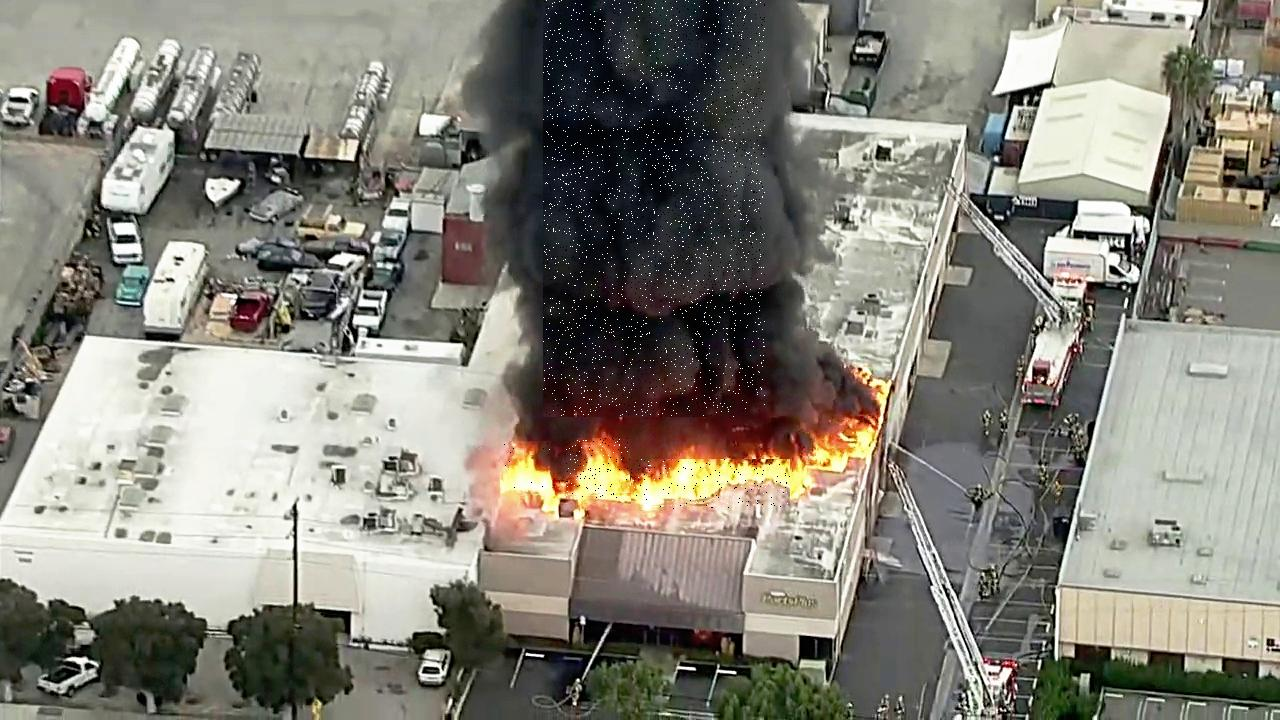fire: (544, 0, 766, 417), (631, 460, 790, 510), (566, 439, 630, 499), (500, 442, 551, 499)
